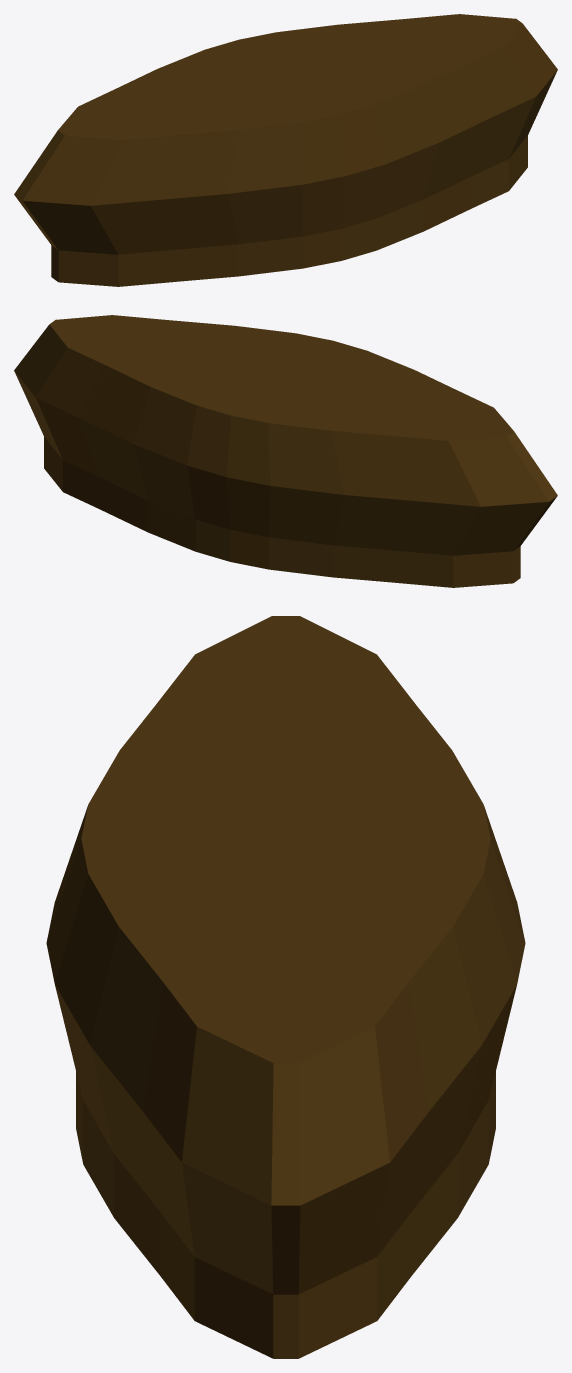
File: DogLevel.glb
3 views of the same model, one above another, from view 1: azimuth 30°, elevation 25°; view 2: azimuth 150°, elevation 25°; view 3: azimuth 270°, elevation 25° (orthographic). The views are drawn at different scales.
Parts seen in each view (by area): view 1: boat.002; view 2: boat.002; view 3: boat.002.
Boxes of the visible parts, x1,y1,x2,y2 form: boat.002: (14,14,557,286); boat.002: (14,315,557,587); boat.002: (46,616,525,1358).
Bounding box in the file's own units: 39 × 10.09 × 15.09.
